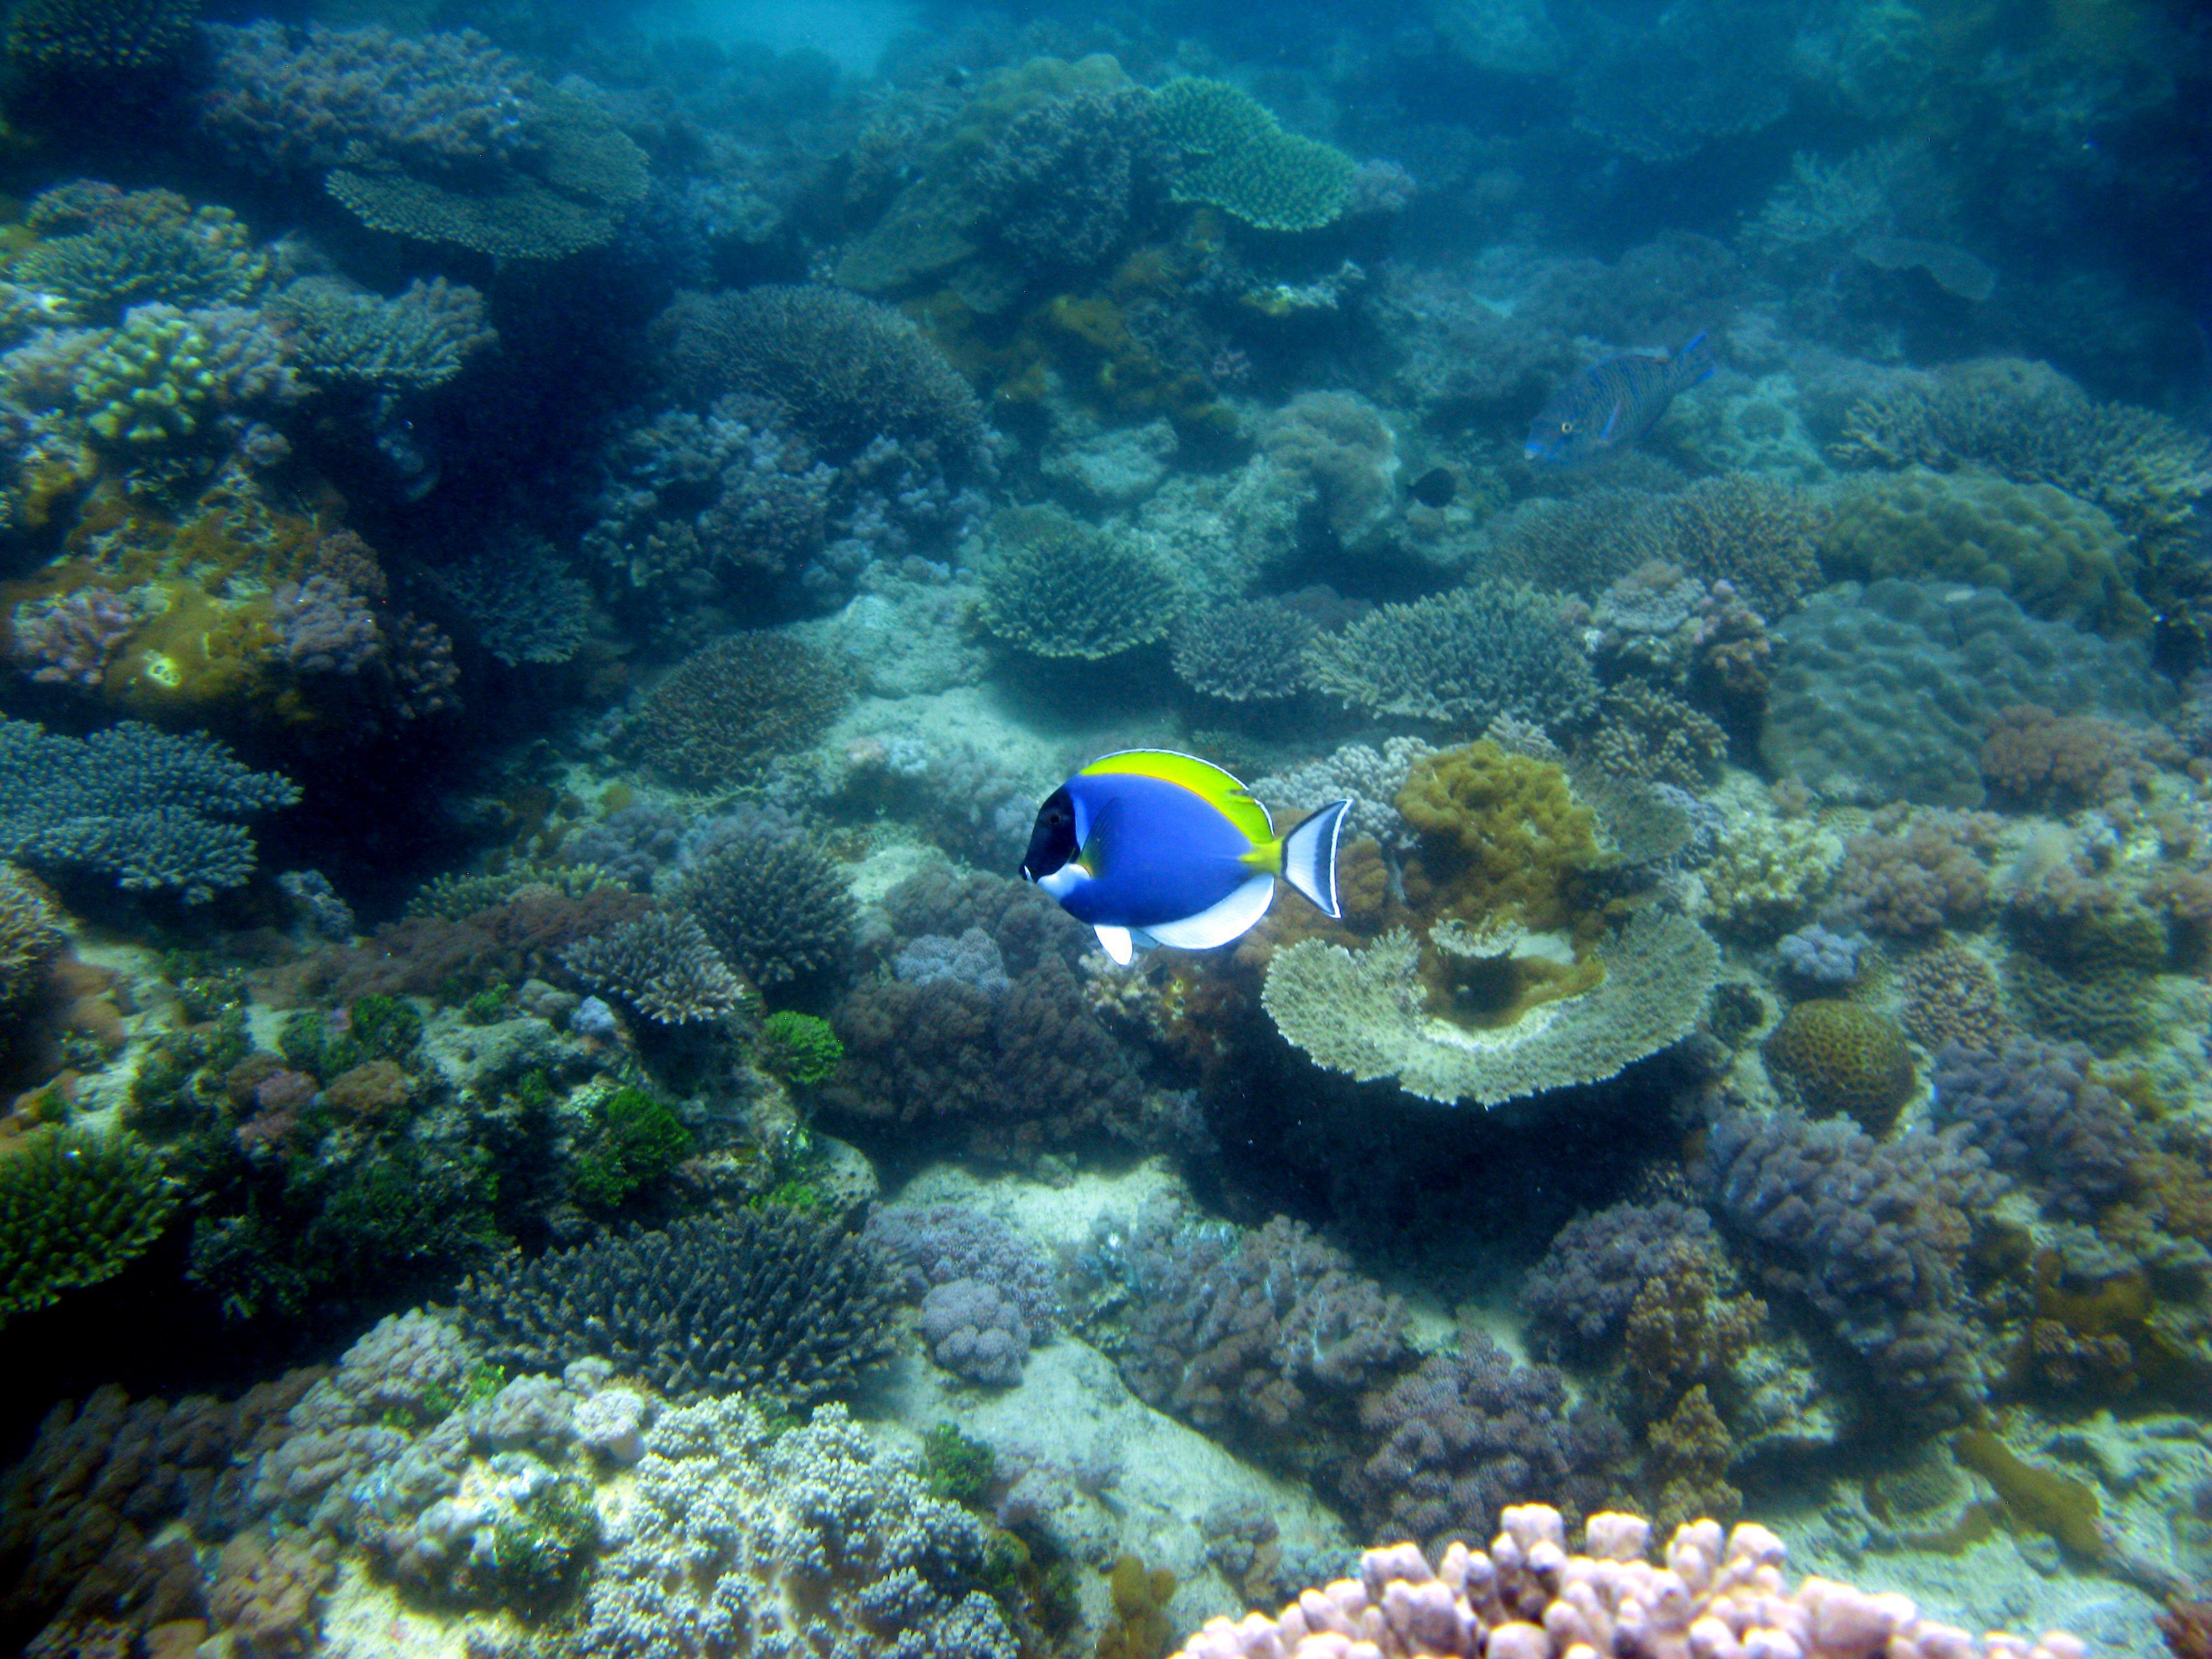Fish: (951, 647, 1392, 1066)
